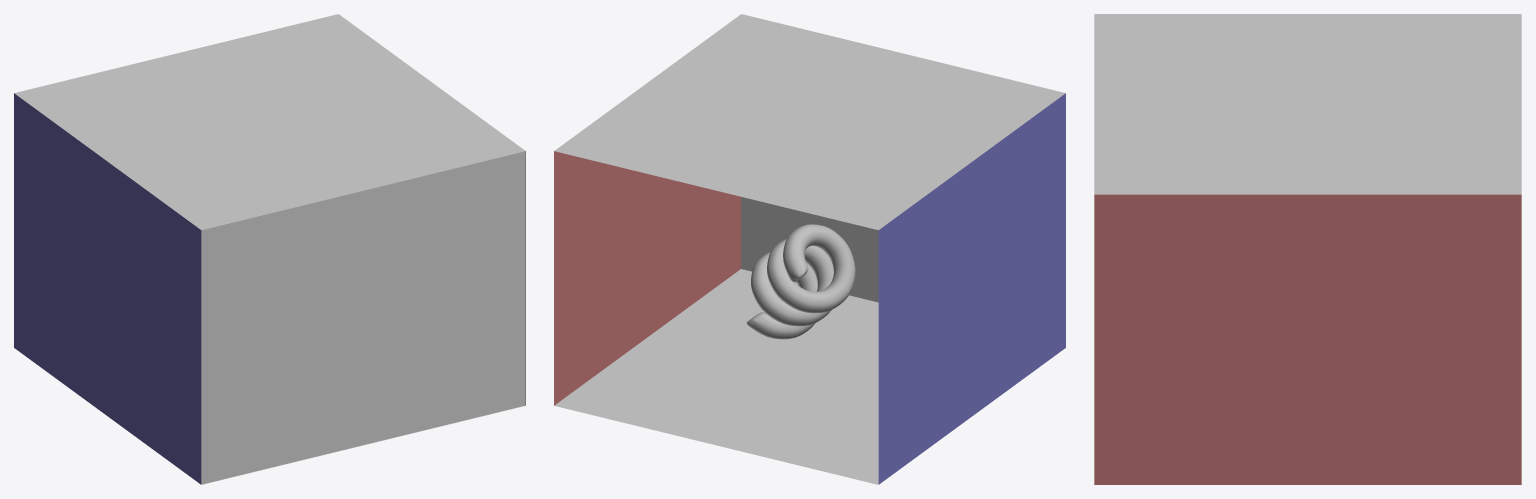
Rendered from CBcoil_lambertian.dae.
3 renders of one model, left to right at view 1: azimuth 30°, elevation 25°; view 2: azimuth 150°, elevation 25°; view 3: azimuth 270°, elevation 25°, orthographic. The views are drawn at different scales.
Visible parts, largest first — view 1: backWall, ceiling, rightWall; view 2: ceiling, rightWall, floor, leftWall, coil, backWall; view 3: leftWall, ceiling.
Part boxes in pixels (x1,y1,x2,y2): backWall: [201, 151, 525, 484]; ceiling: [14, 14, 525, 230]; rightWall: [14, 93, 201, 484]; ceiling: [554, 14, 1065, 230]; rightWall: [878, 93, 1065, 484]; floor: [554, 269, 878, 484]; leftWall: [554, 151, 740, 405]; coil: [747, 224, 855, 339]; backWall: [741, 197, 878, 302]; leftWall: [1094, 194, 1521, 484]; ceiling: [1094, 14, 1521, 194].
Bounding box in the file's own units: 2 × 2 × 1.5.
